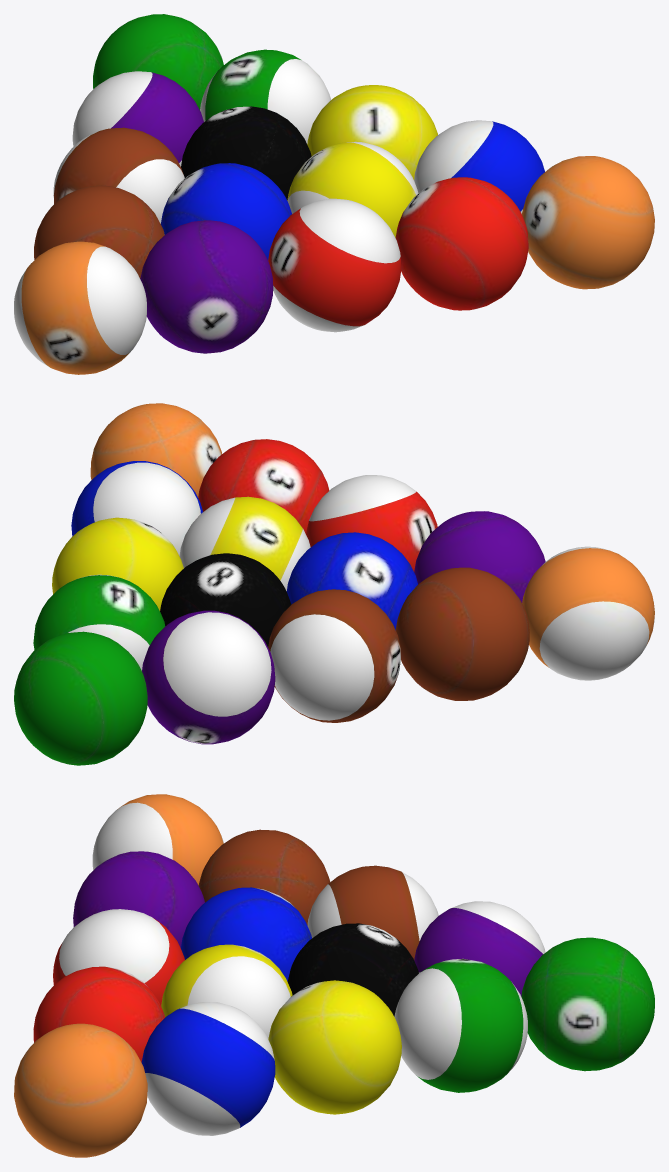
Rendered from Boule_01.fbx.
3 views of the same model, one above another, from view 1: azimuth 30°, elevation 25°; view 2: azimuth 150°, elevation 25°; view 3: azimuth 270°, elevation 25° (orthographic).
Visible parts, largest first — view 1: Pool balls set.015, Pool balls set.012, Pool balls set.005, Pool balls set.006, Pool balls set.003, Pool balls set.008, Pool balls set.002, Pool balls set.001, Pool balls set.010, Pool balls set.014, Pool balls set.011, Pool balls set.004 (+3 smaller); view 2: Pool balls set.001, Pool balls set.013, Pool balls set.014, Pool balls set.008, Pool balls set.015, Pool balls set.012, Pool balls set.007, Pool balls set.002, Pool balls set.005, Pool balls set.003, Pool balls set.011, Pool balls set.004 (+3 smaller); view 3: Pool balls set.003, Pool balls set.011, Pool balls set.001, Pool balls set.004, Pool balls set.007, Pool balls set.006, Pool balls set.012, Pool balls set.013, Pool balls set.014, Pool balls set.005, Pool balls set.008, Pool balls set.010 (+3 smaller).
Boxes of the visible parts, box(x1,y1,x2,y2) form: Pool balls set.015: box(14, 241, 146, 374); Pool balls set.012: box(268, 198, 401, 332); Pool balls set.005: box(395, 177, 528, 310); Pool balls set.006: box(140, 220, 273, 353); Pool balls set.003: box(522, 156, 654, 289); Pool balls set.008: box(53, 127, 184, 223); Pool balls set.002: box(161, 163, 291, 260); Pool balls set.001: box(93, 14, 223, 109); Pool balls set.010: box(287, 141, 418, 237); Pool balls set.014: box(72, 71, 203, 166); Pool balls set.011: box(414, 120, 544, 213); Pool balls set.004: box(307, 85, 437, 179); Pool balls set.001: box(14, 631, 147, 765); Pool balls set.013: box(396, 567, 529, 700); Pool balls set.014: box(142, 610, 275, 744); Pool balls set.008: box(268, 589, 400, 722); Pool balls set.015: box(522, 546, 654, 680); Pool balls set.012: box(306, 475, 437, 571); Pool balls set.007: box(33, 574, 165, 670); Pool balls set.002: box(286, 532, 417, 630); Pool balls set.005: box(198, 439, 329, 533); Pool balls set.003: box(90, 403, 221, 497); Pool balls set.011: box(71, 461, 202, 555); Pool balls set.004: box(52, 517, 183, 610); Pool balls set.003: box(14, 1023, 147, 1157); Pool balls set.011: box(141, 1002, 275, 1135); Pool balls set.001: box(521, 937, 654, 1071); Pool balls set.004: box(268, 980, 401, 1114); Pool balls set.007: box(394, 958, 527, 1092); Pool balls set.006: box(73, 851, 204, 947); Pool balls set.012: box(53, 909, 184, 1006); Pool balls set.013: box(198, 829, 330, 925); Pool balls set.014: box(414, 901, 545, 996); Pool balls set.005: box(33, 966, 164, 1062); Pool balls set.008: box(307, 865, 438, 959); Pool balls set.010: box(161, 944, 292, 1038).
Bounding box in the file's own units: 39.93 × 7.92 × 37.78.
